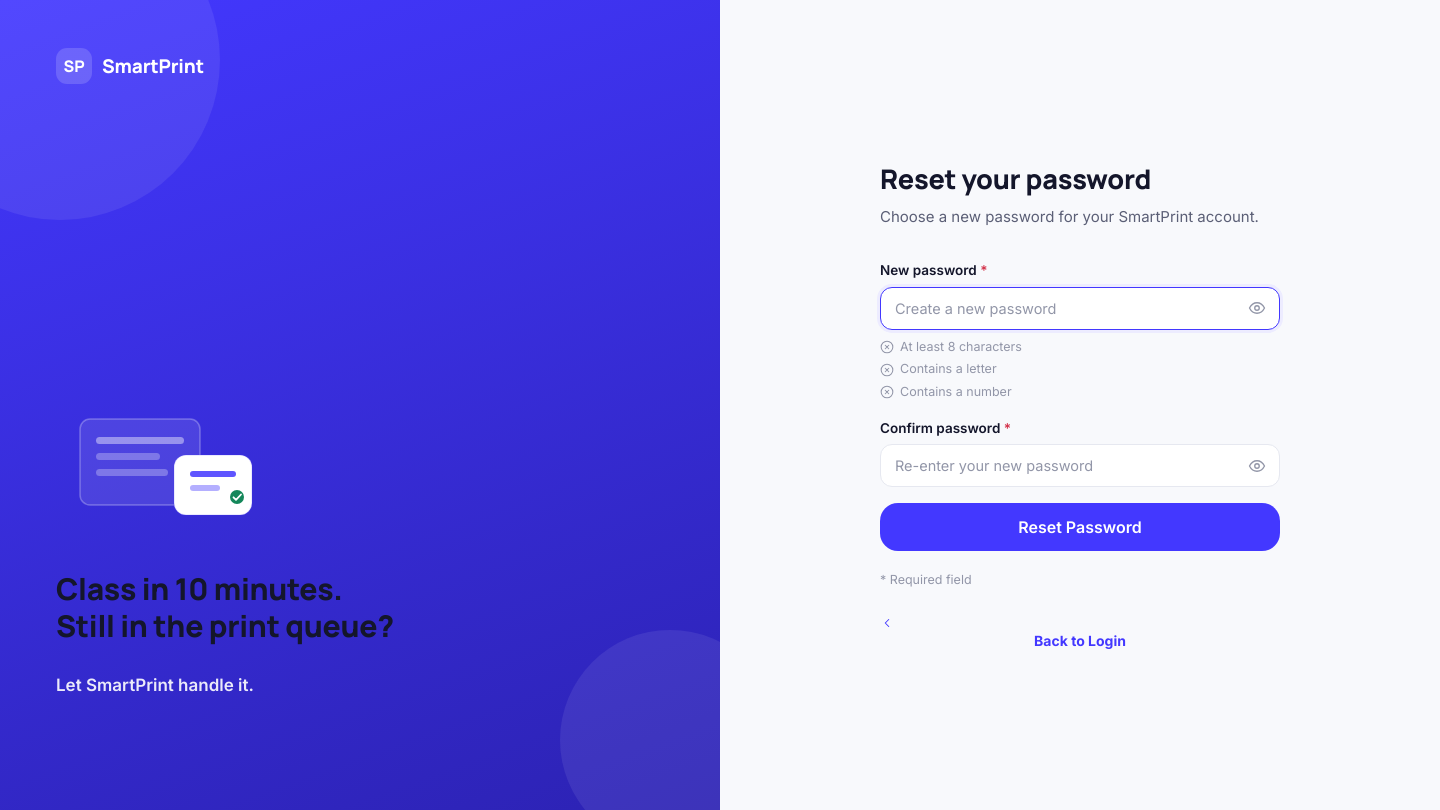
Test: ResetPasswordPage › successful reset shows a success message and a working back-to-login link
Type "GoodPassword123" into the password field labelled "New password *".
click(1080, 308); type("GoodPassword123")  # box [880,286,1280,330]
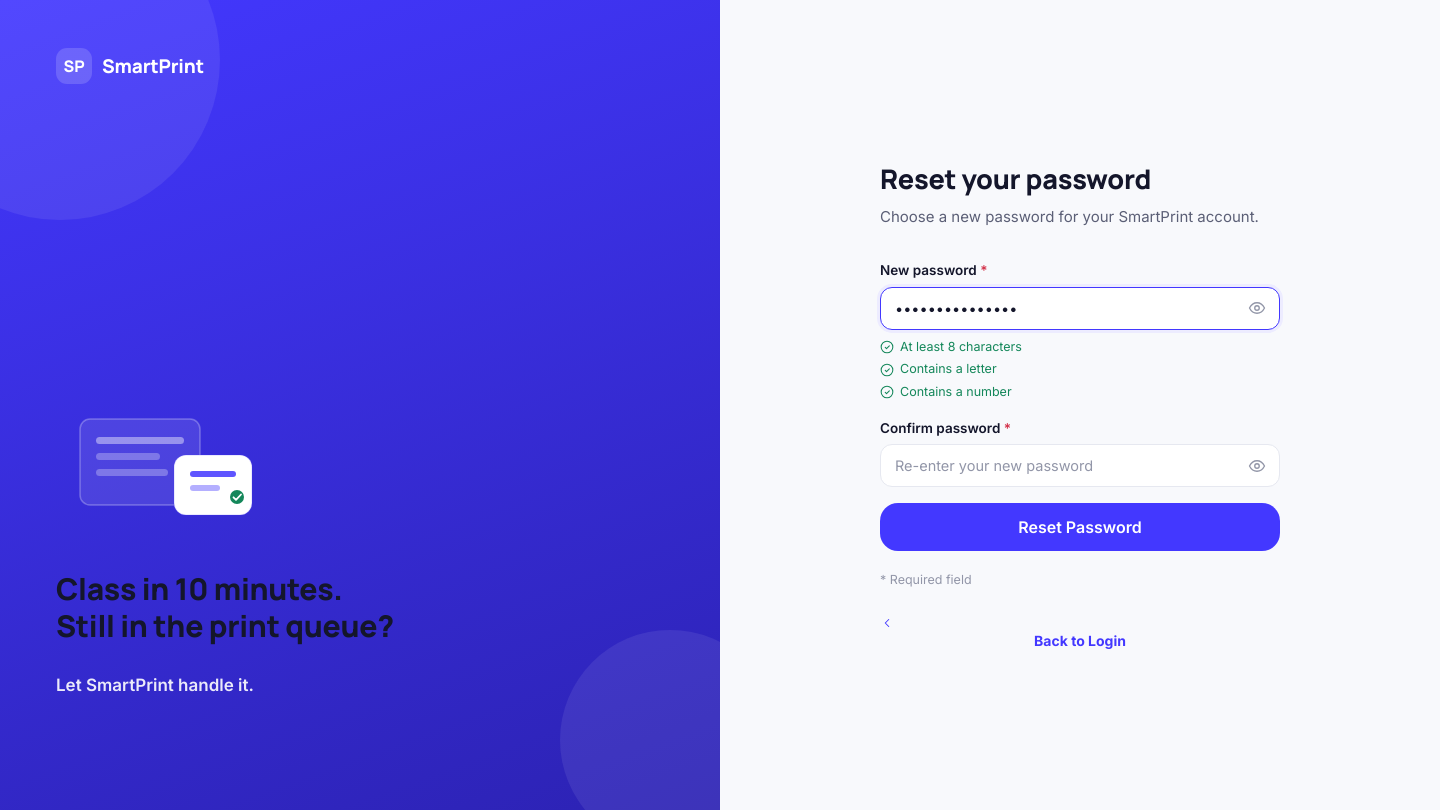
Type "GoodPassword123" into the password field labelled "Confirm password *".
click(1080, 466); type("GoodPassword123")  # box [880,444,1280,487]
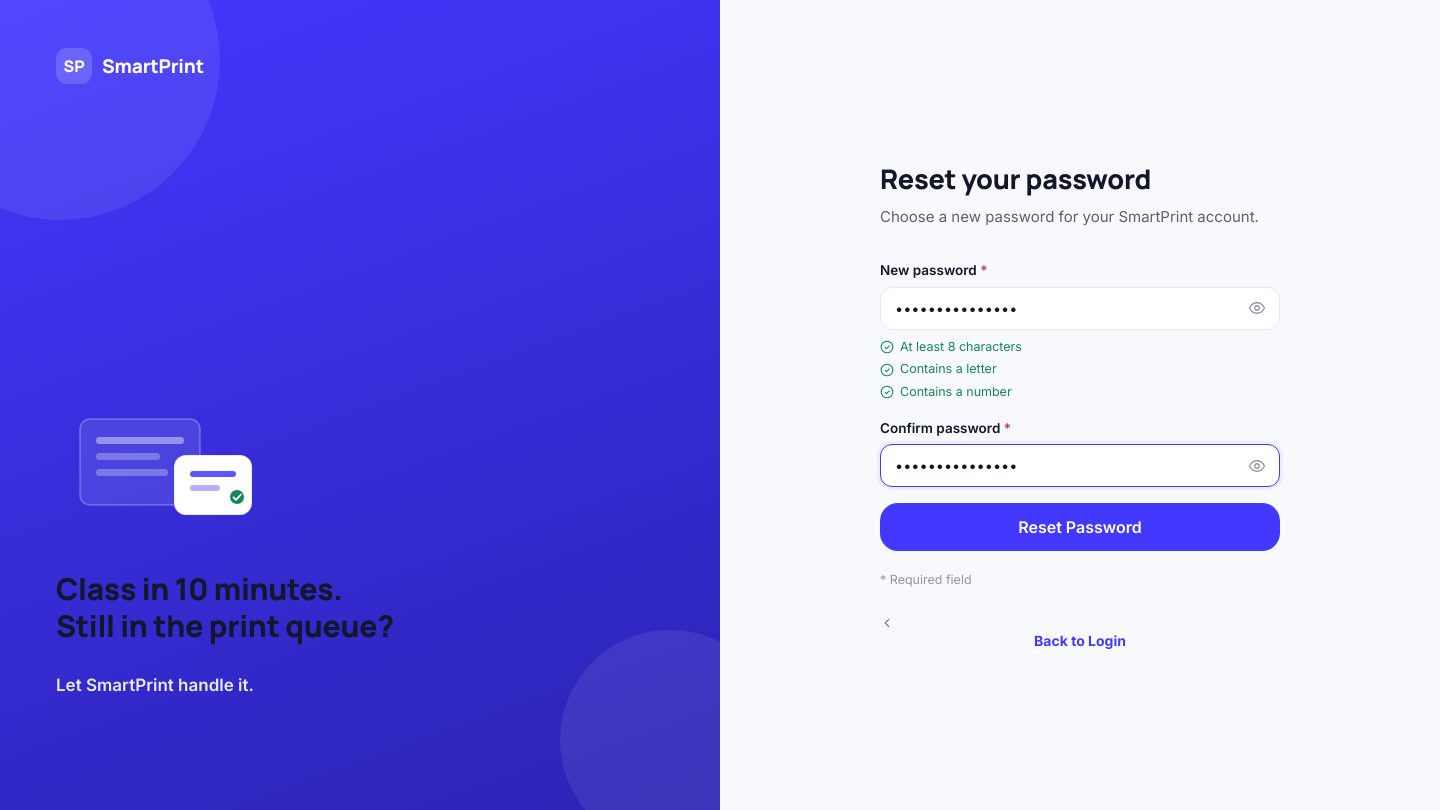
Click the button "Reset Password".
click(1080, 527)  # box [880,503,1280,551]
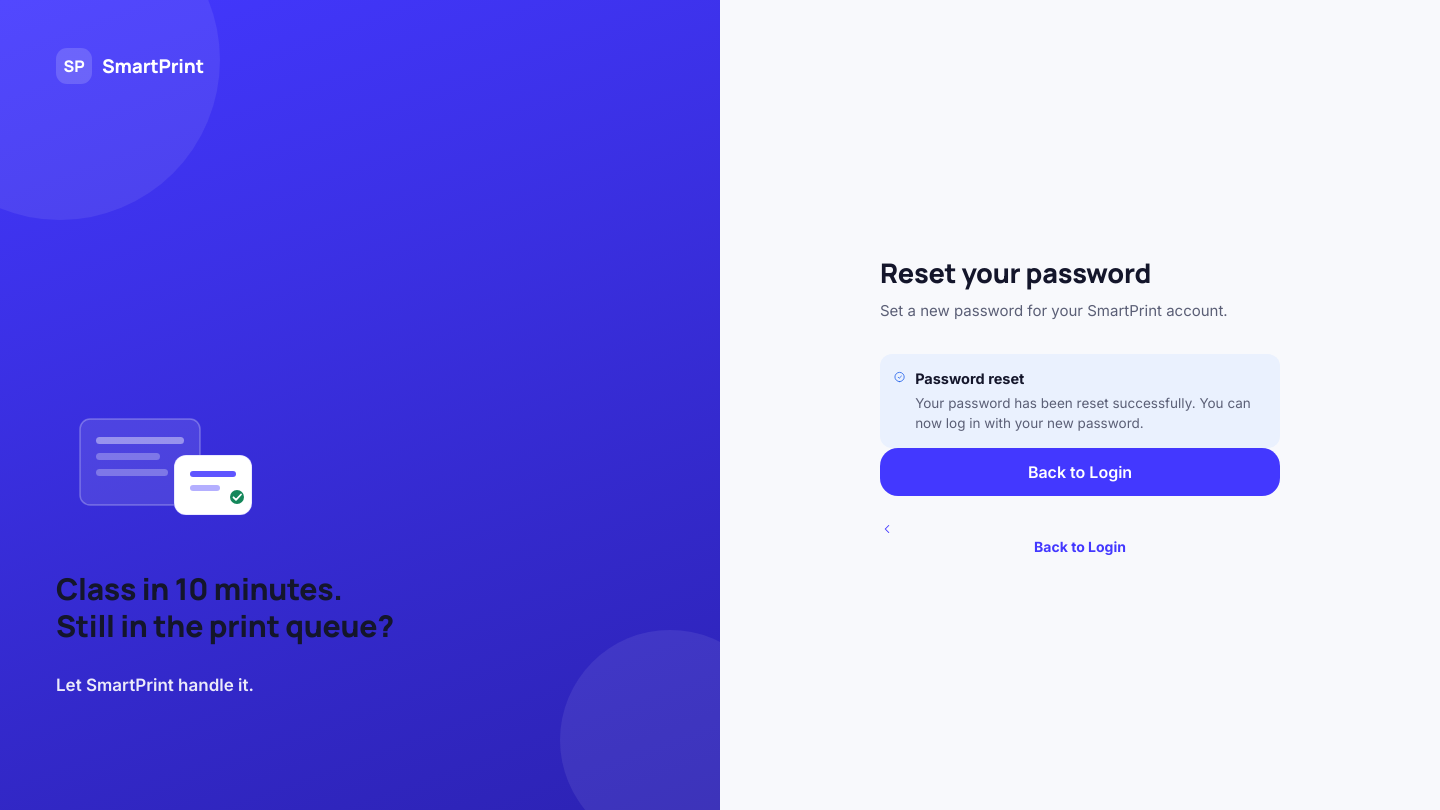
Now the text "reset successfully" is shown, box [915,395,1251,431]
Now the 1st link "Back to Login" is shown, box [880,463,1280,482]
